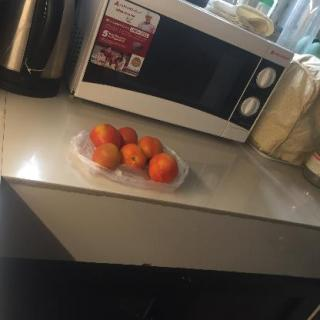Tomat: (68, 115, 192, 195)
